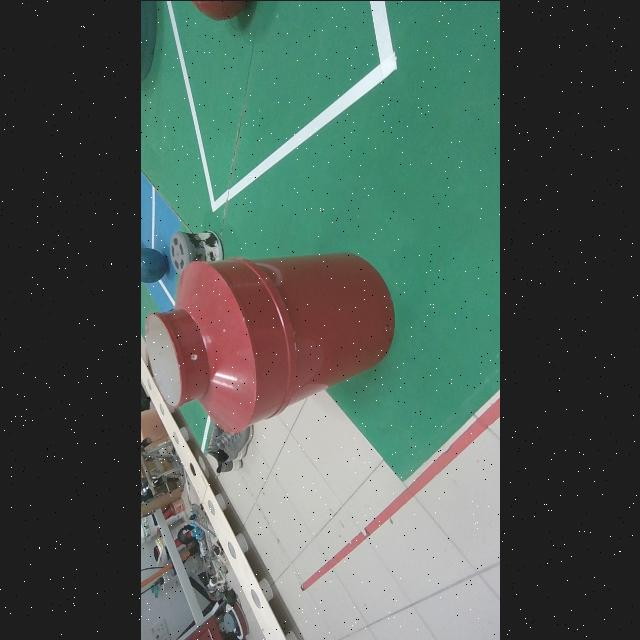B: (140, 247, 167, 282)
R: (191, 0, 246, 19)
